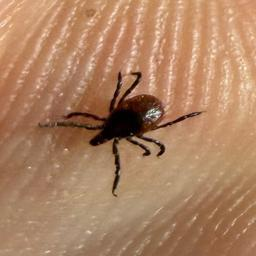Ixodes scapularis: (38, 70, 207, 198)
